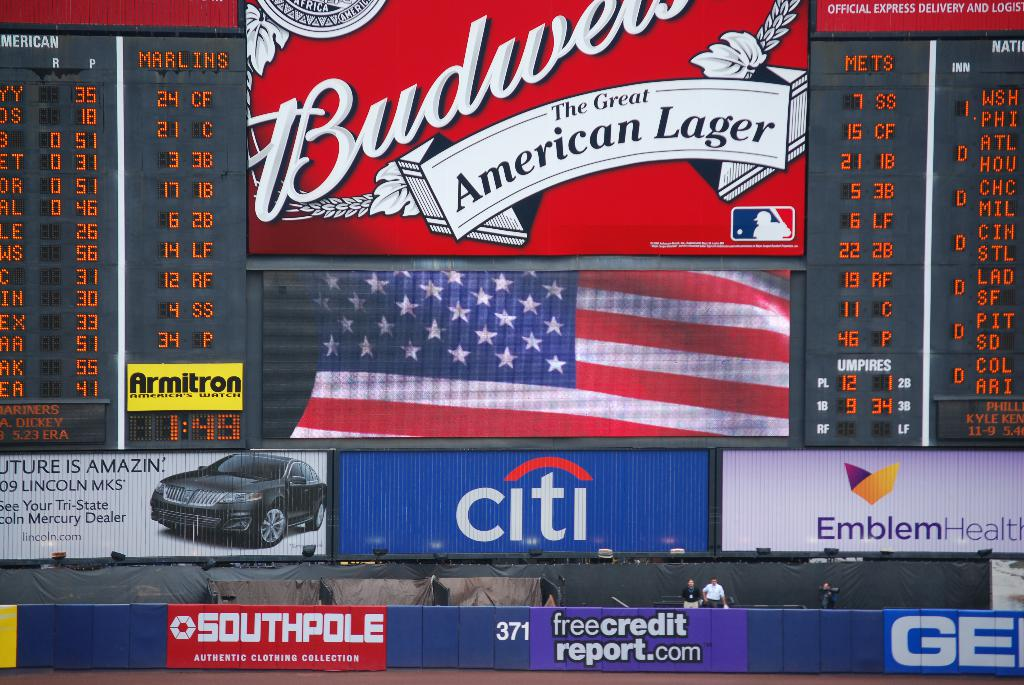Car: (147, 446, 332, 551)
